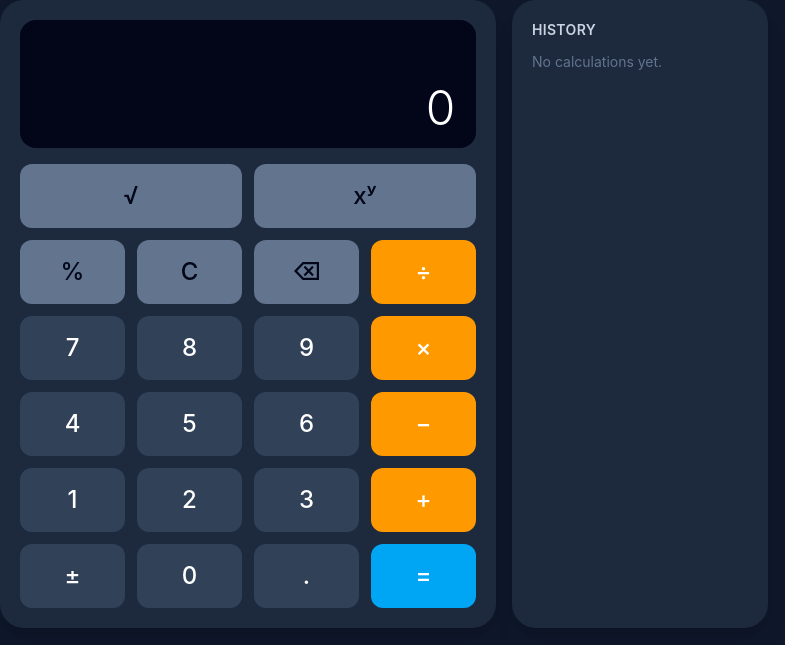
Test: Calculator › chains operations
This screenshot has width=785, height=645.
Click the button "2" at (190, 500), box [137,468,242,532]
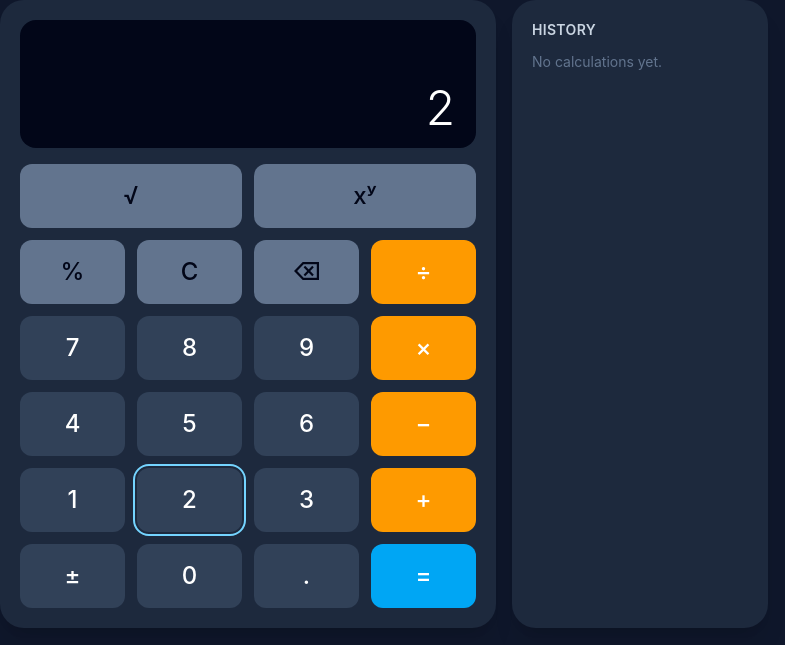
Click the button named "add" at (424, 500), box [371,468,476,532]
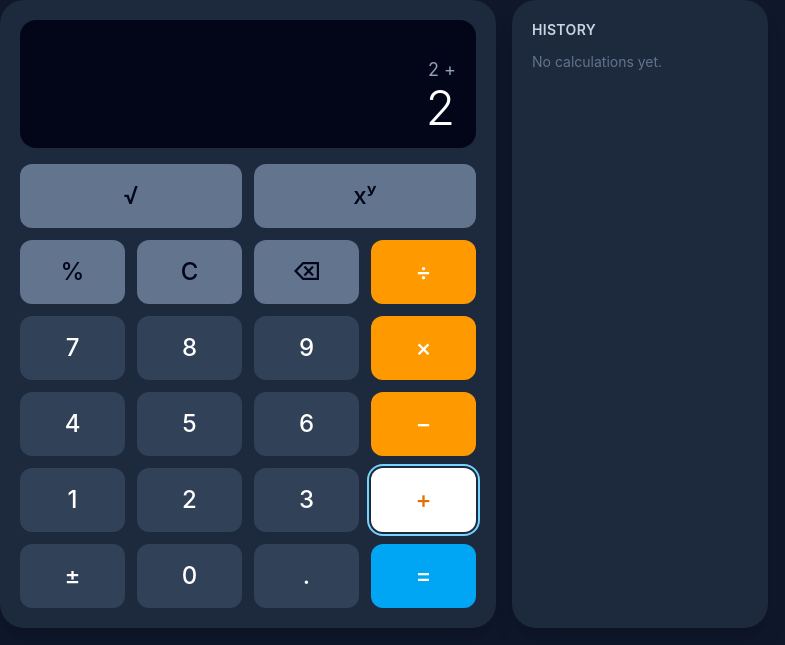
Click the button "3" at (306, 500), box [254,468,359,532]
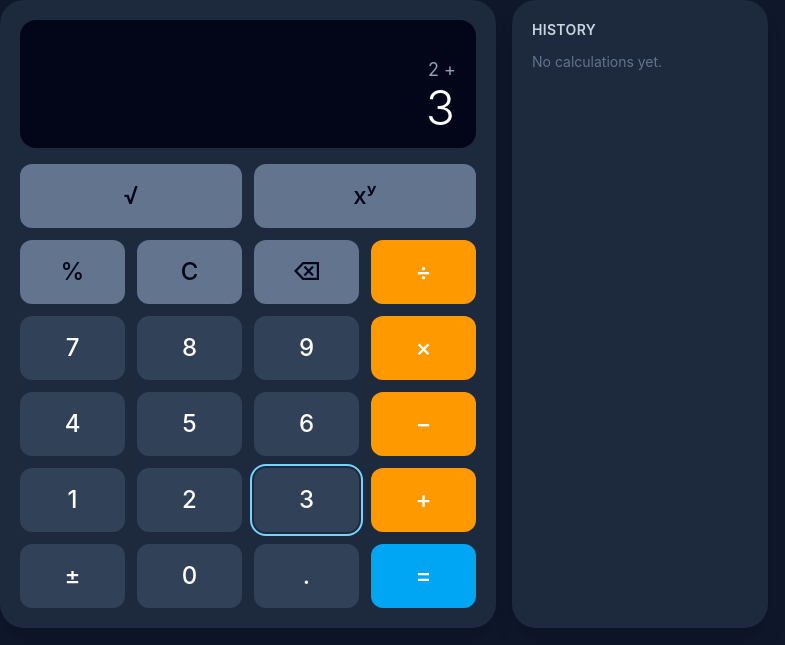
Click the button named "multiply" at (424, 348), box [371,316,476,380]
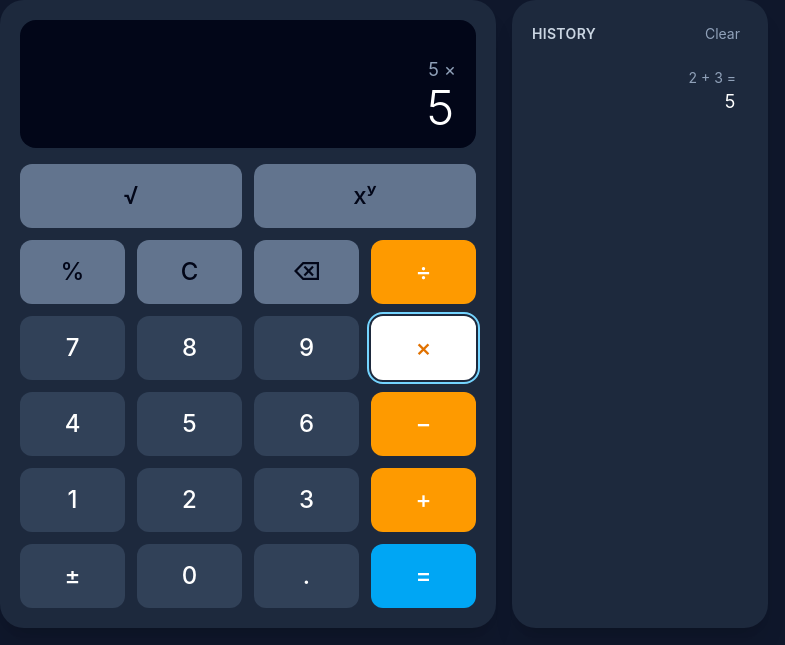
Click the button "4" at (72, 424), box [20,392,125,456]
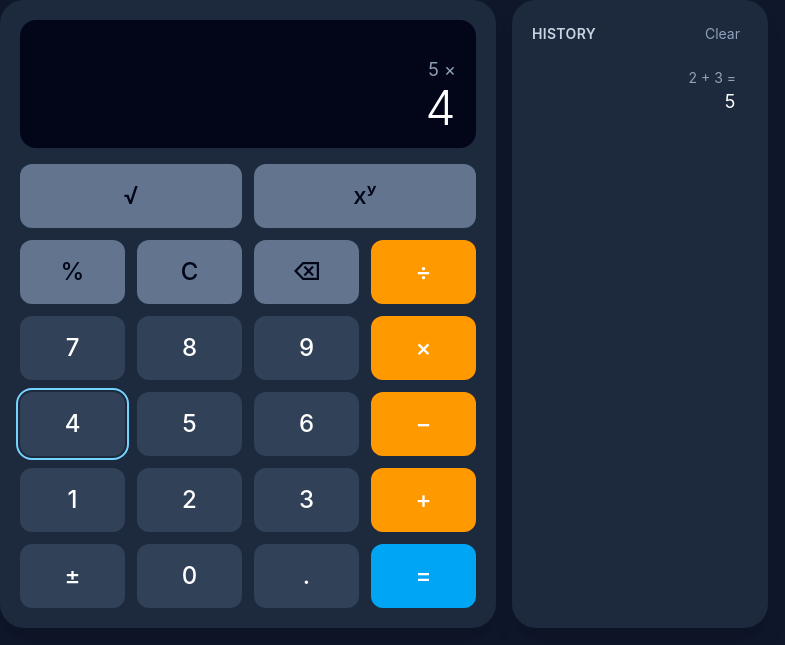
Click the button named "equals" at (424, 576), box [371,544,476,608]
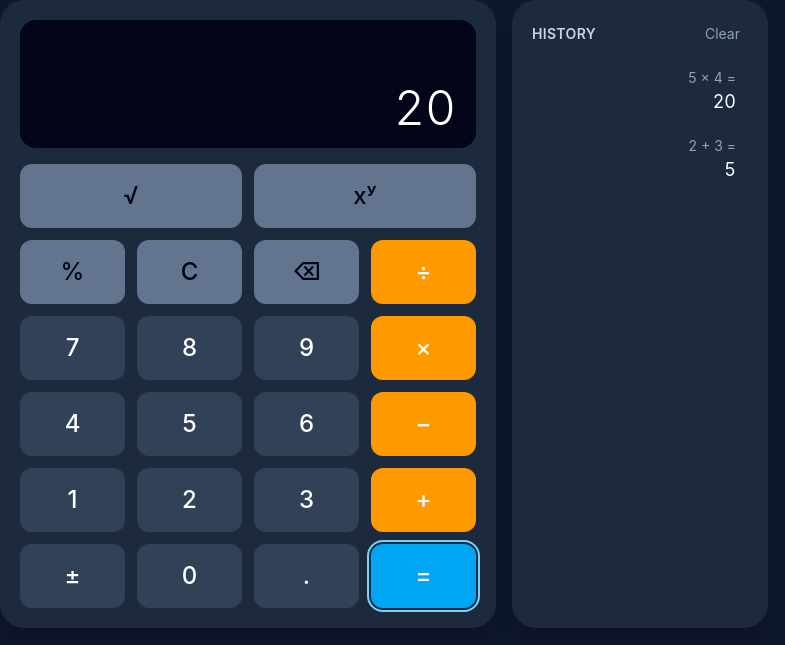
Now the text named "Result" reads "20", box [394,78,456,137]
